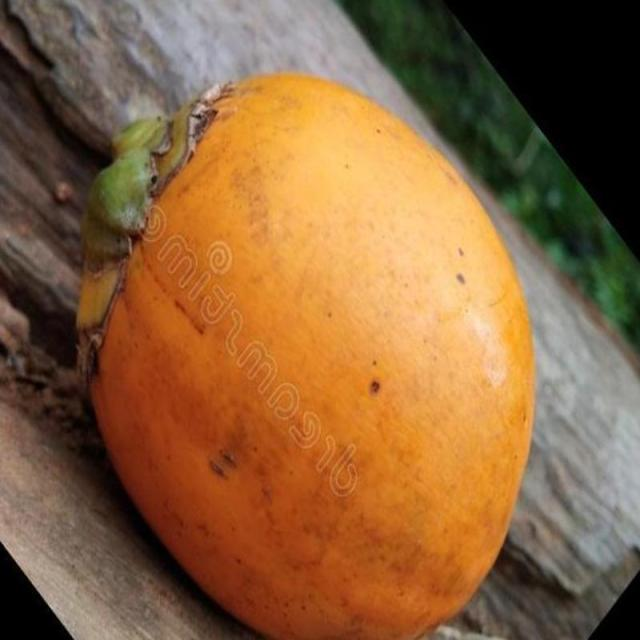good: (76, 74, 534, 639)
